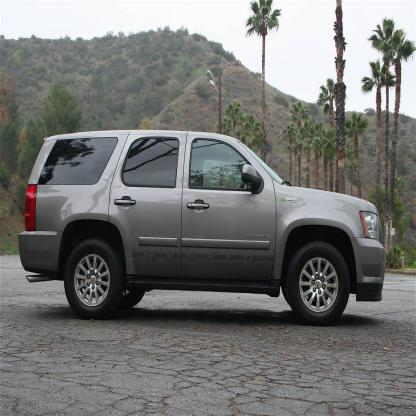Vehicle: (16, 128, 388, 328)
